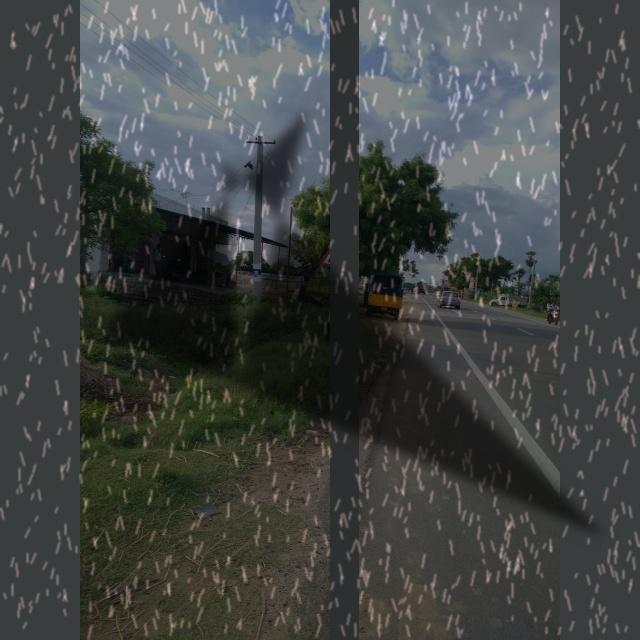Hump_or_Rough_Road: (317, 234, 353, 272)
